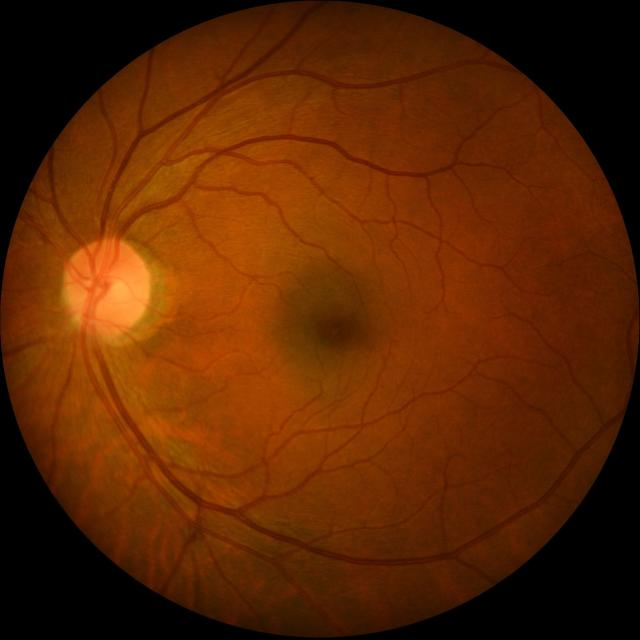OC: (90, 271, 126, 302)
OD: (63, 238, 148, 337)
